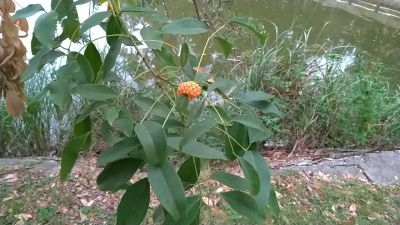eggs: (177, 79, 202, 99)
